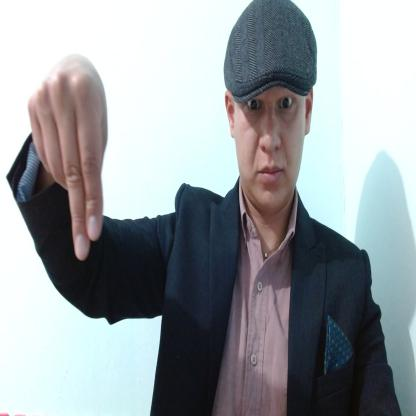N: (28, 55, 108, 262)
